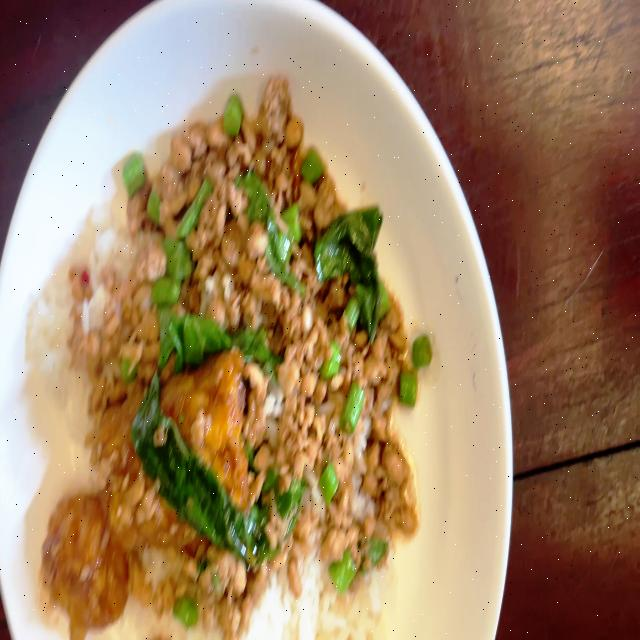fried_tofo: (111, 362, 240, 540), (41, 500, 129, 625)
minced_pork: (134, 68, 420, 374), (247, 366, 412, 566), (152, 553, 265, 626)
rice: (26, 265, 87, 445), (259, 575, 385, 640), (90, 210, 119, 322)
stir_fried_basil: (27, 75, 423, 640)
